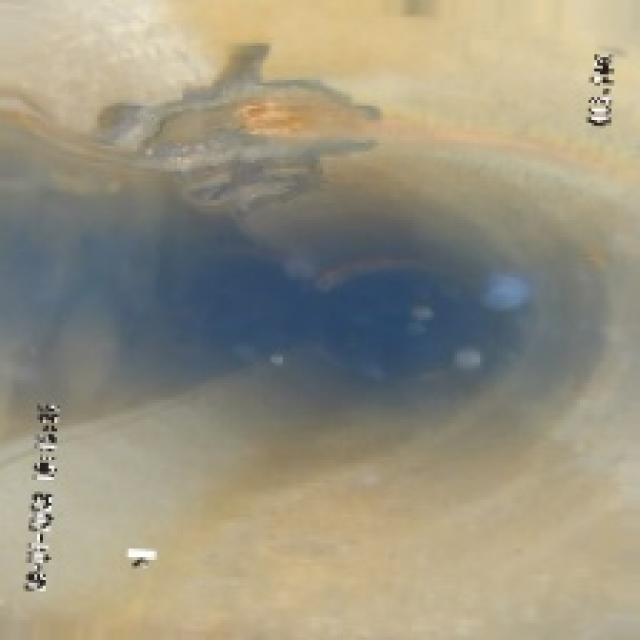pipe_surface_damage: (134, 66, 372, 197)
